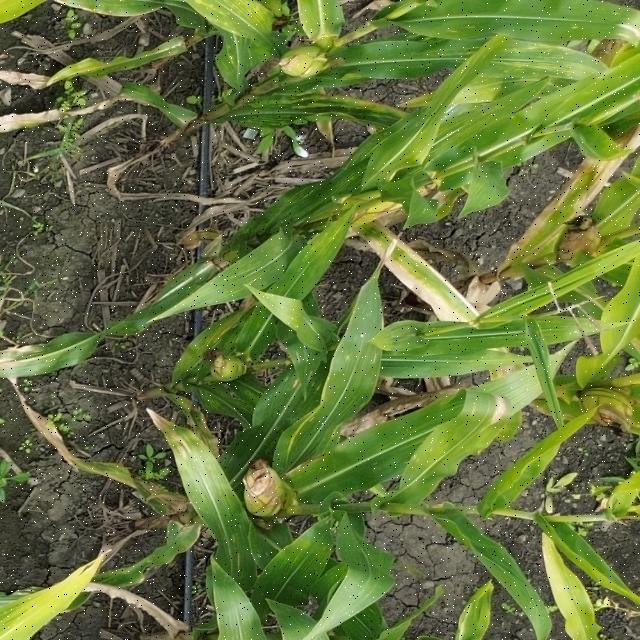gray-leaf-spot: (236, 91, 415, 141), (184, 0, 287, 66), (284, 366, 348, 442)
northern-leaf-blight: (356, 213, 511, 356), (148, 414, 208, 469)
southern-leaf-blight: (224, 521, 335, 618), (461, 42, 604, 86)
